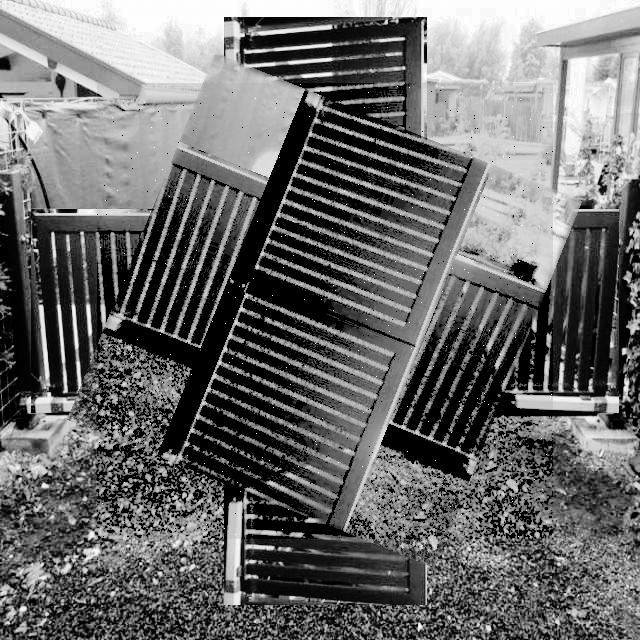fences: (97, 83, 553, 539)
